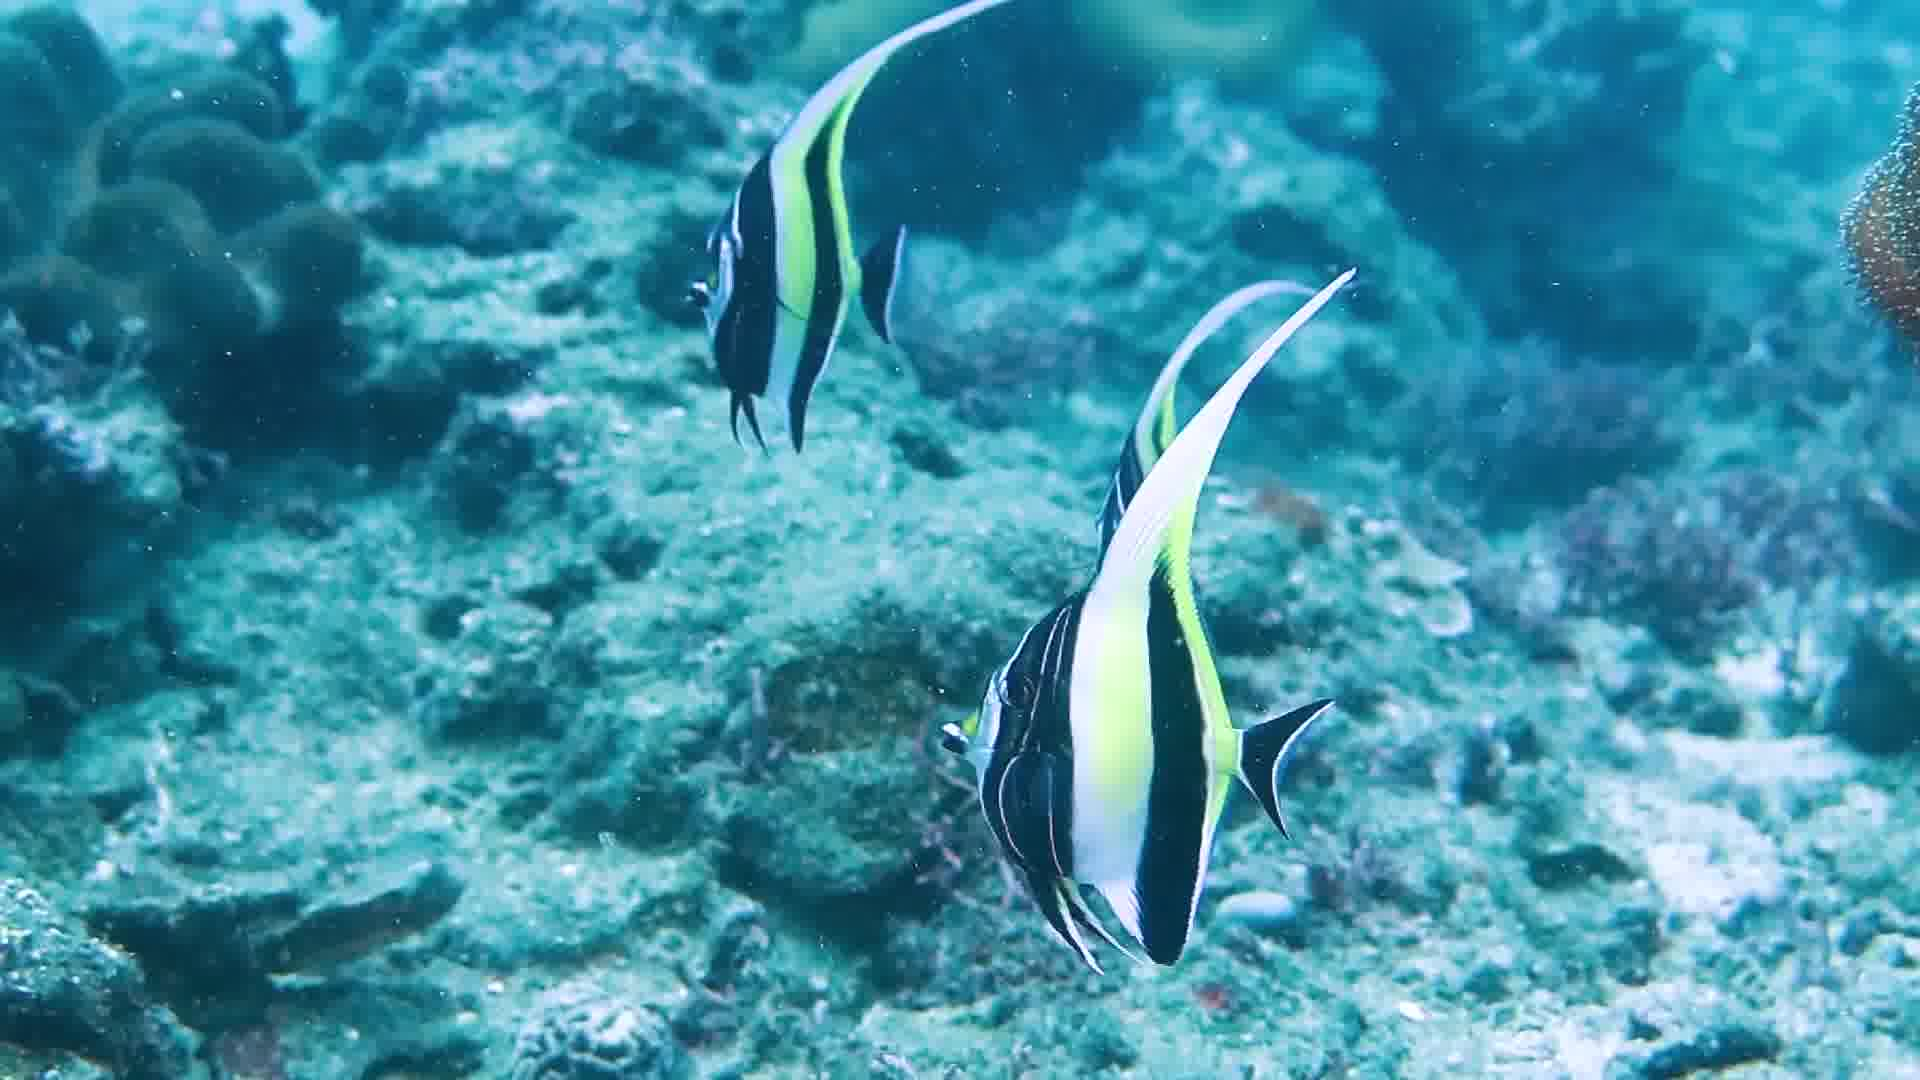Zanclus cornutus: (959, 491, 1333, 945), (678, 65, 922, 458)
